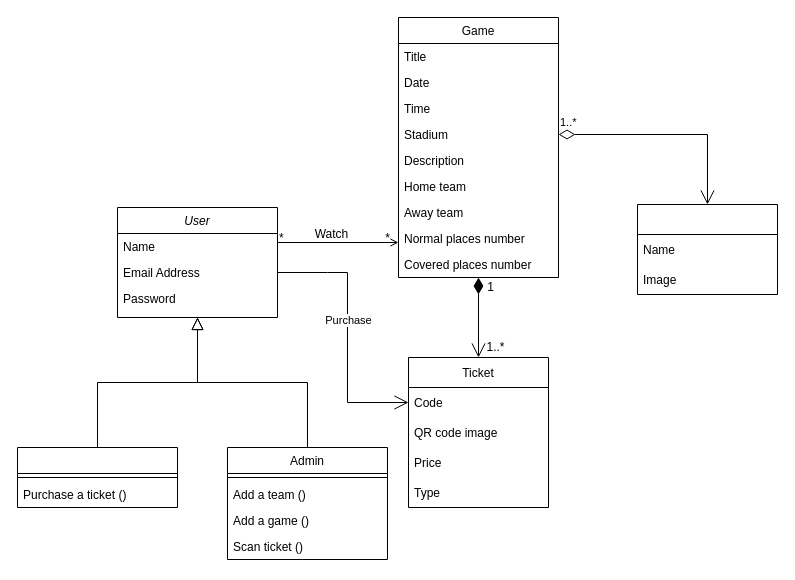
Image size: 795x580. Some labels were removed from this diagram. The box of each missing label's shape, as (x1, y1, x2, y2) in pixels:
Client: (16, 446, 178, 508)
Team: (636, 204, 778, 294)
